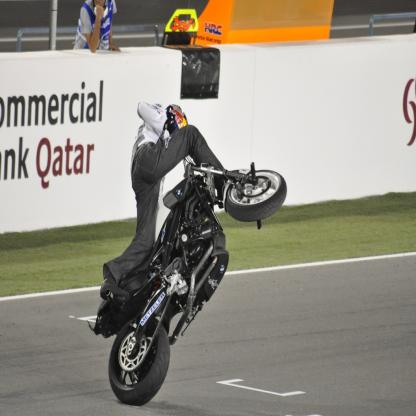Helmet: (165, 104, 188, 136)
